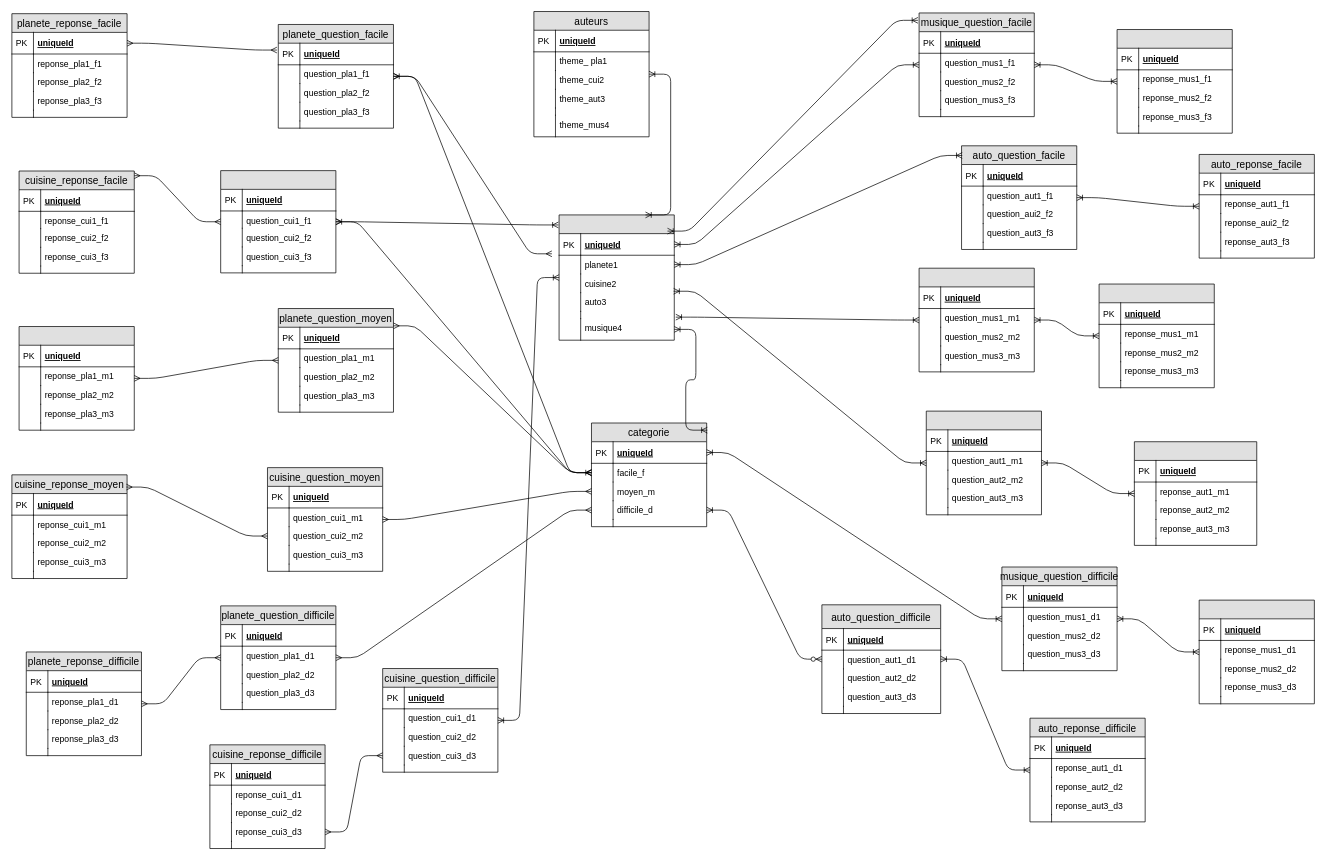
The diagram is 1327 pixels wide and 860 high, and some of its shapes have lost their labels. Here are the shapes that lost their labels. From the top down, the box of each, then its label:
(1116, 29, 1232, 133): musique_reponse_facile
(220, 170, 336, 273): cuisine_question_facile
(558, 214, 674, 340): themes
(918, 267, 1034, 372): musique_question_moyen
(1098, 283, 1214, 388): musique_reponse_moyen
(18, 326, 134, 430): planete_reponse_moyen
(926, 410, 1041, 515): auto_question_moyen
(1134, 441, 1257, 545): auto_reponse_moyen
(1198, 599, 1314, 704): musique_reponse_difficile
